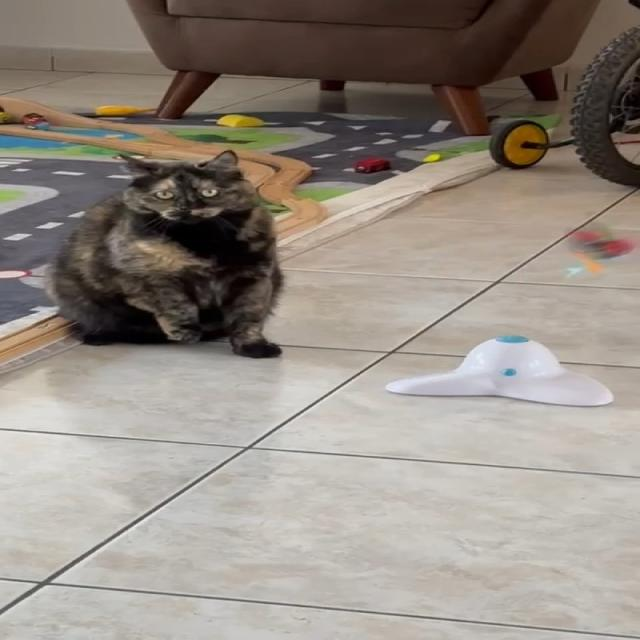authorized: (43, 148, 285, 358)
